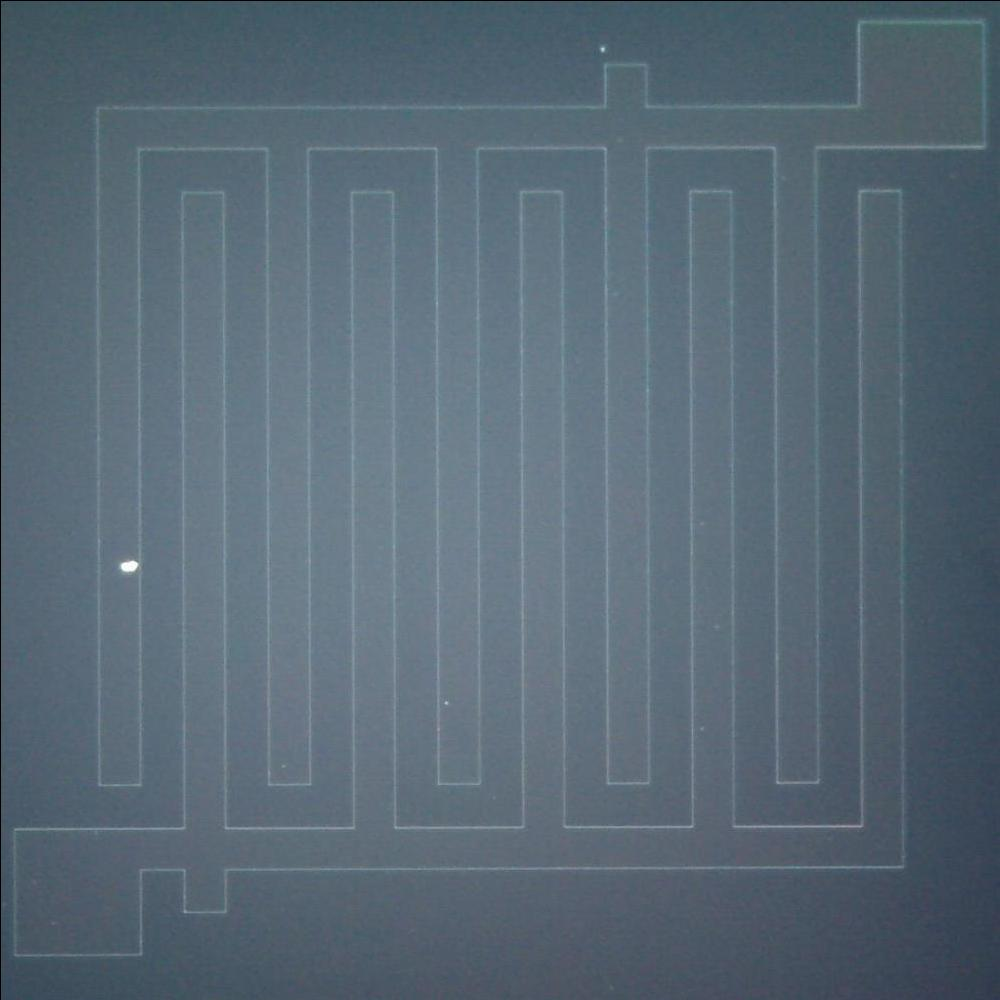budge circuit: (170, 853, 242, 920), (589, 53, 659, 114)
dot: (588, 32, 613, 62)
spot: (112, 552, 143, 579)
